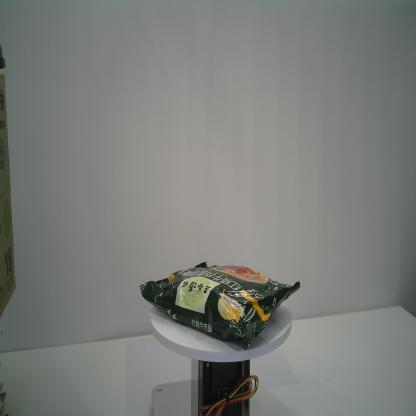Instant Noodles: (139, 260, 302, 354)
